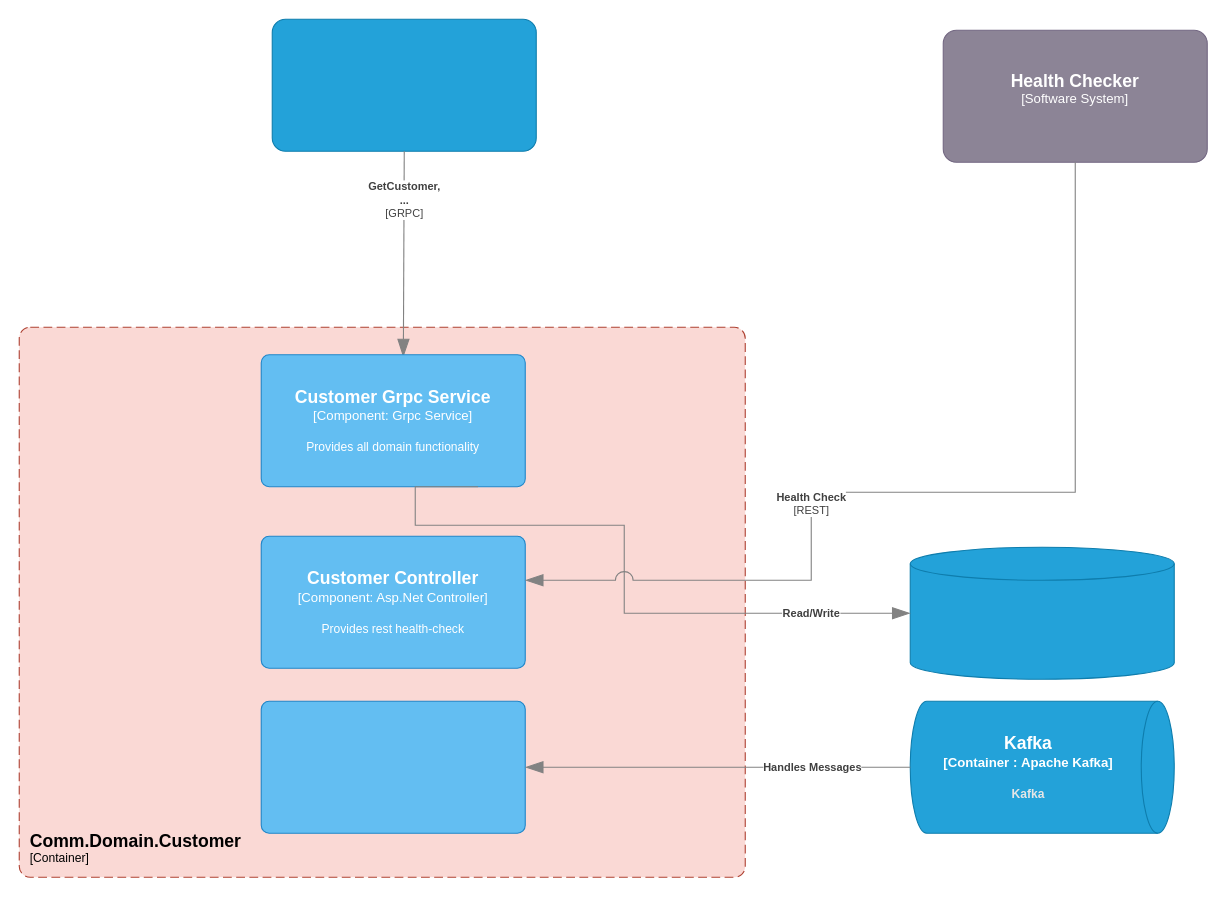
The diagram is 1227 pixels wide and 897 high, and some of its shapes have lost their labels. The shapes that lost their labels are listed below. From the top down, each one's centre as x and y in pixels, then its label:
pixel 403 84: Comm.App.Customer [Container: .net svc]
pixel 1041 612: Comm.Domain.Customer.Db [relational: aws aurora mysql] store product data
pixel 392 766: Message Handlers [Component: Message Handler] Handles broker messages
